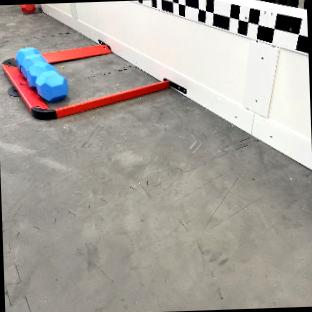Parking-R: (3, 58, 169, 119)
V5_BLUE: (16, 48, 68, 101)
